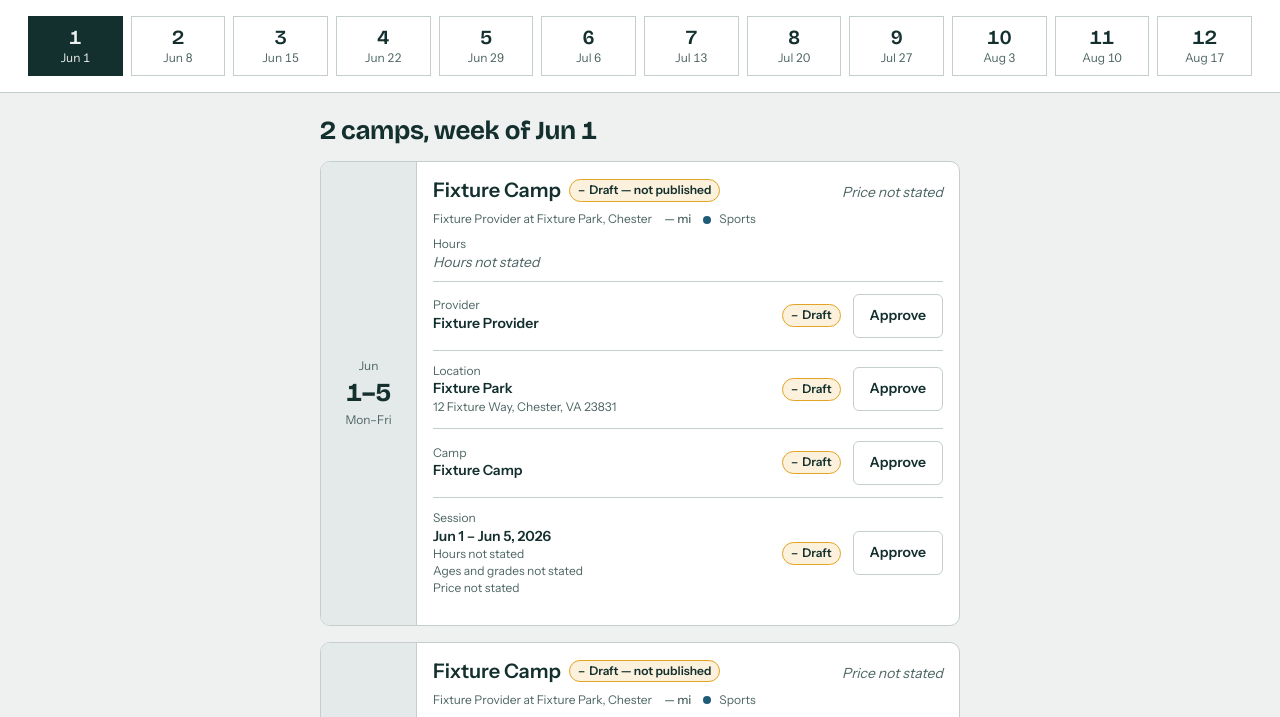
SummerWeeks, for a reviewer › keeps the record a draft and shows the message when approval is refused
Click the button with aria-label "Approve session: Fixture Camp": (898, 553) [852, 531, 943, 575]
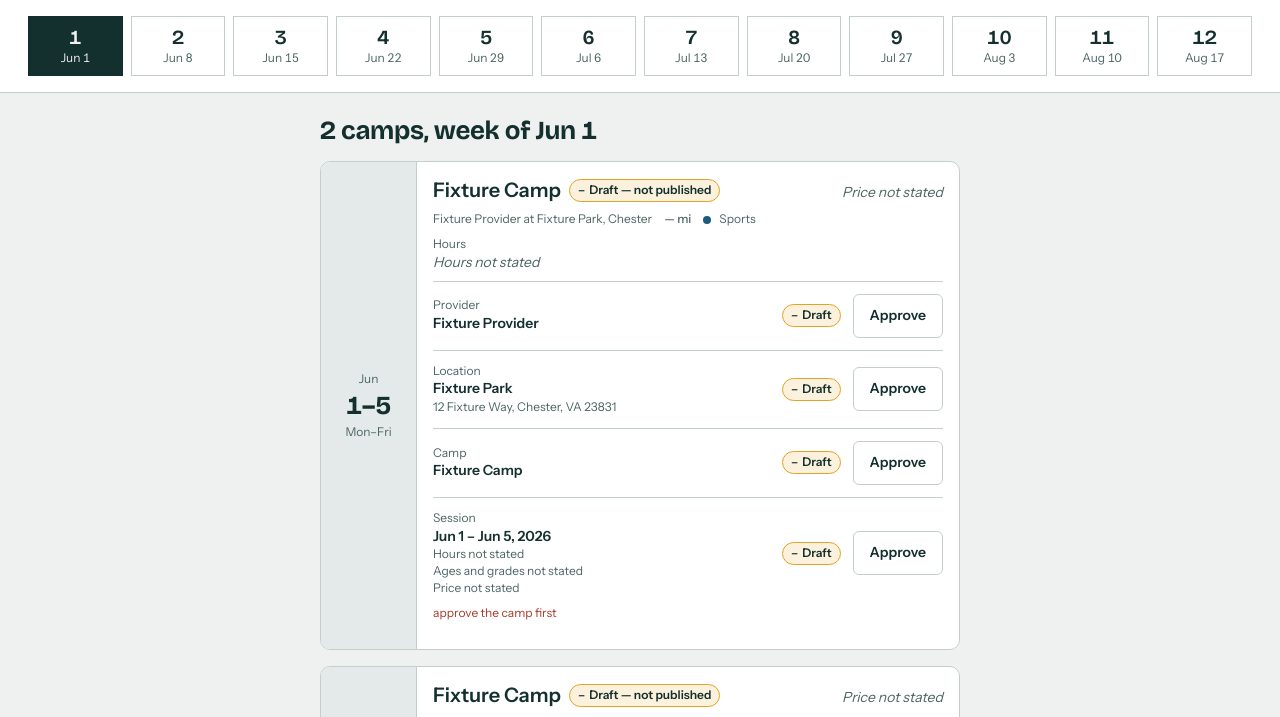
Check: the text "Draft — not published" is shown 2 times, box [569, 180, 720, 202]; [569, 684, 720, 707]
Check: the message reads "approve the camp first", box [433, 604, 557, 620]
